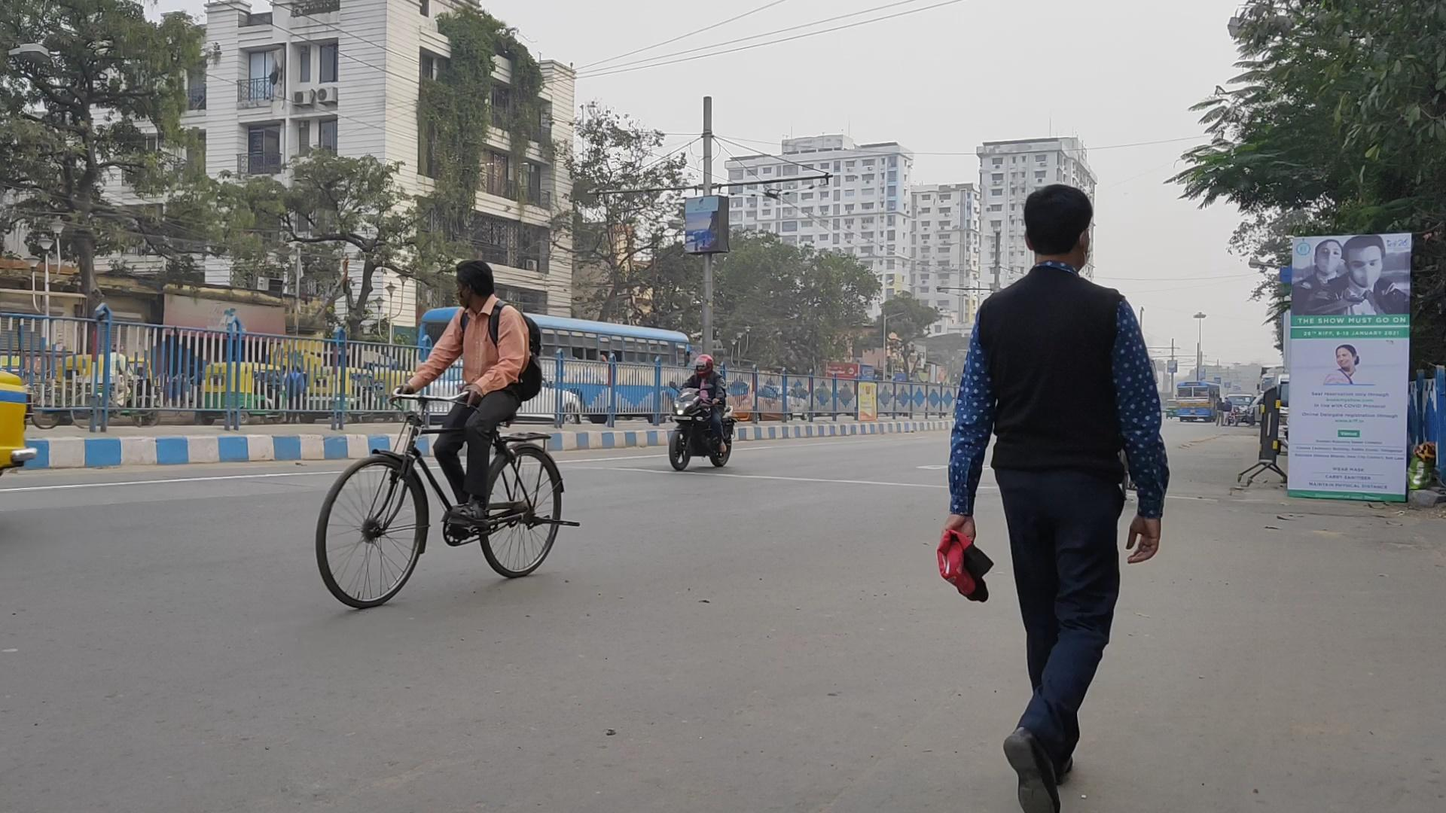Bus: (1175, 381, 1220, 422)
bike: (316, 260, 581, 609), (667, 353, 736, 472)
car: (1225, 391, 1255, 426)
